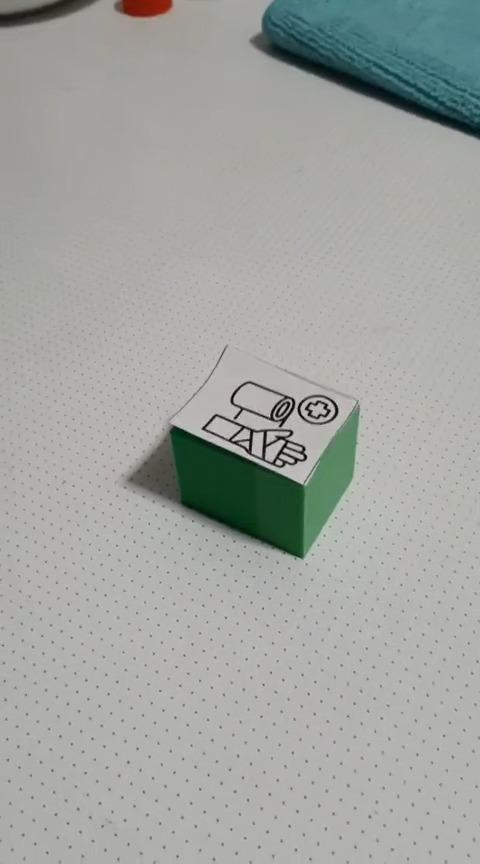Bandages: (167, 342, 360, 558), (260, 0, 479, 134)
